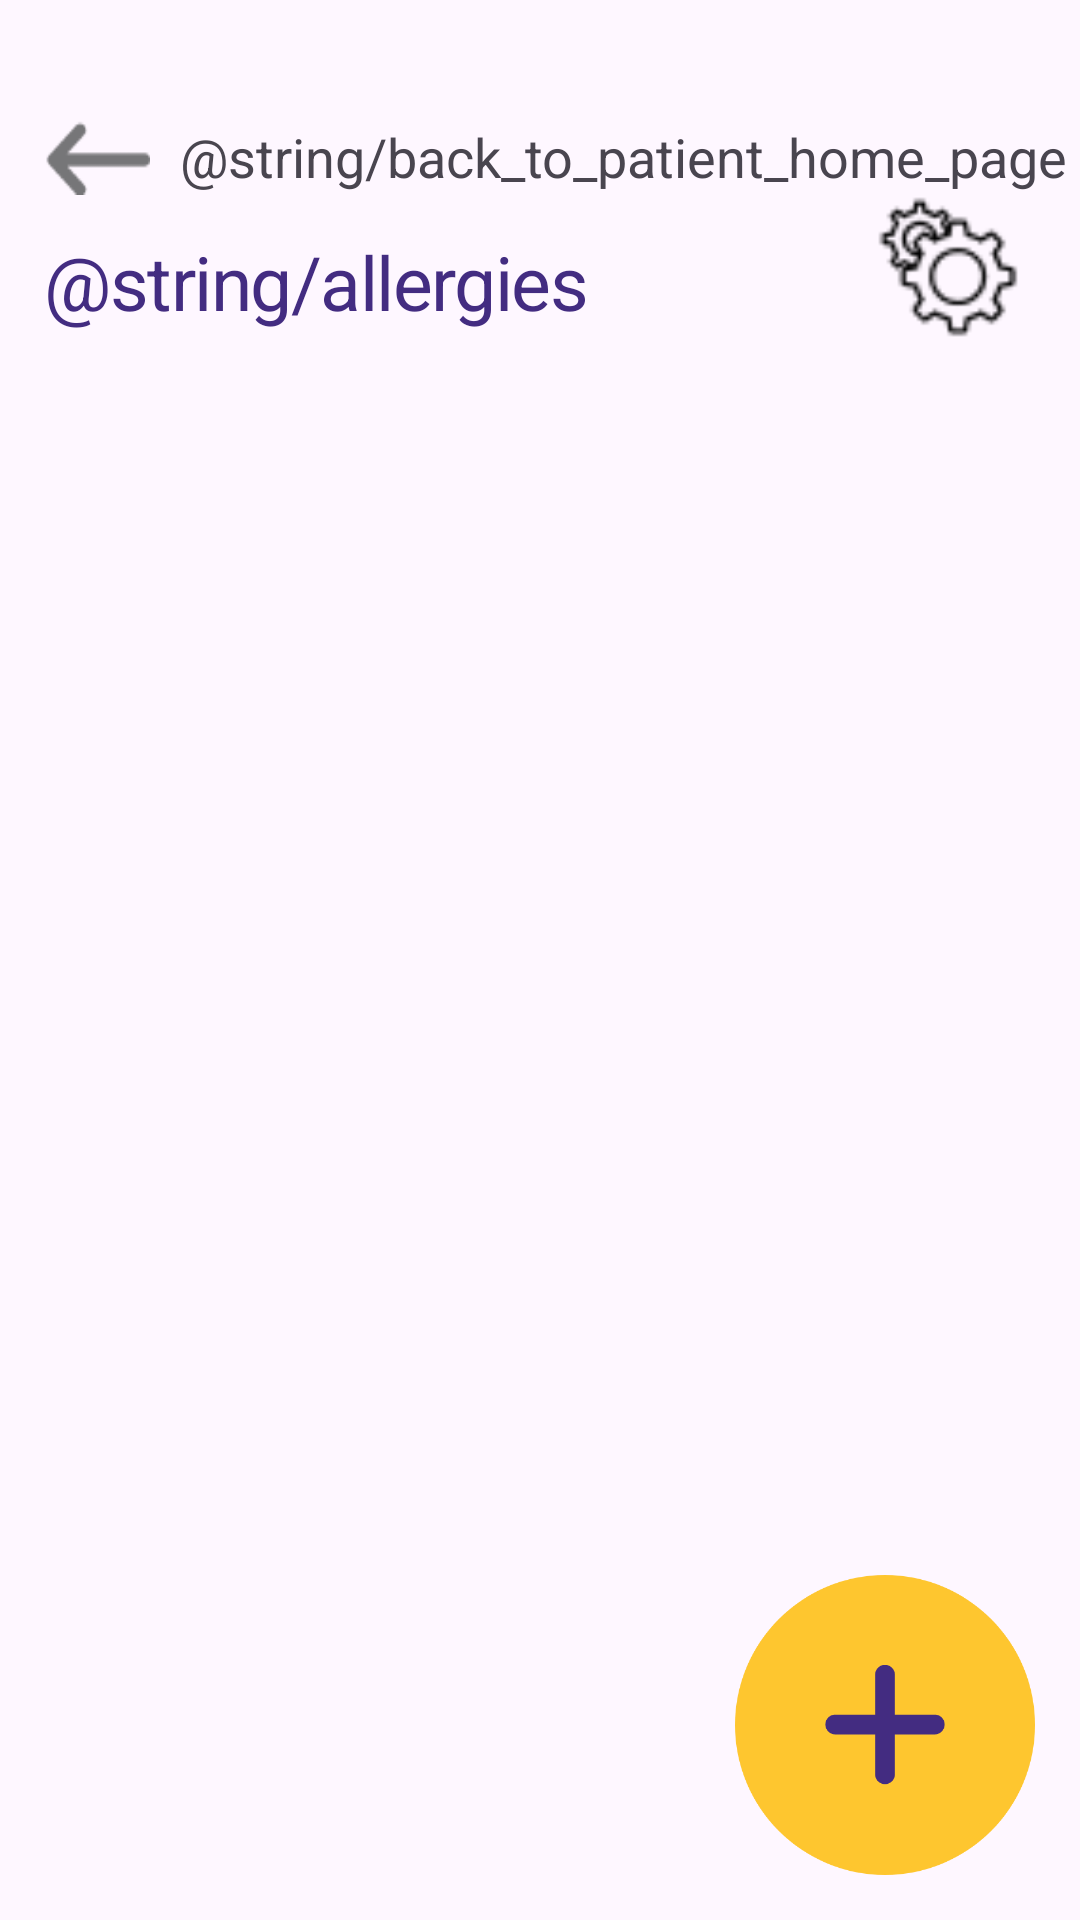

Icon bounding boxes for this 1080*1920 phone screenshot, format (x1, y1, x2, y2):
add no lines: (735, 1575, 1035, 1875)
arrow back: (46, 122, 150, 195)
